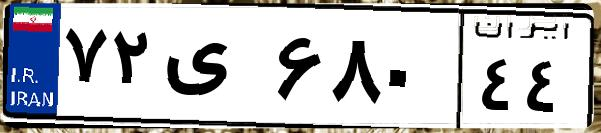0: (385, 28, 445, 110)
2: (110, 28, 158, 98)
4: (475, 38, 525, 113), (525, 38, 570, 115)
6: (270, 28, 330, 110)
7: (57, 26, 110, 100)
8: (330, 28, 385, 110)
ی: (158, 20, 270, 120)
